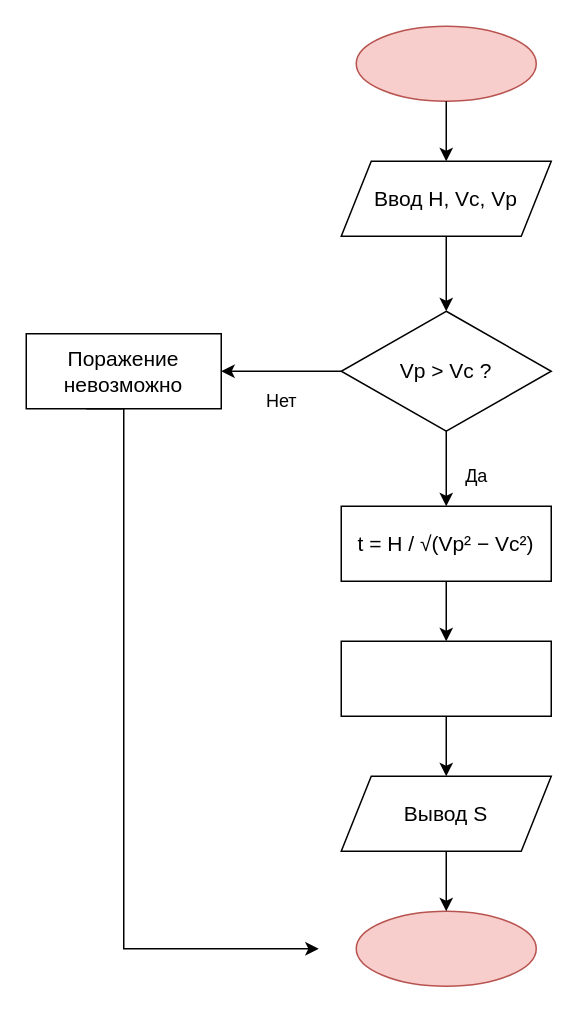
The diagram is 578 pixels wide and 1013 high, and some of its shapes have lost their labels. The centre of each missing label's shape, as x and y in pixels:
S = Vp × t: (445,678)
Конец: (445,948)
Начало: (445,63)
